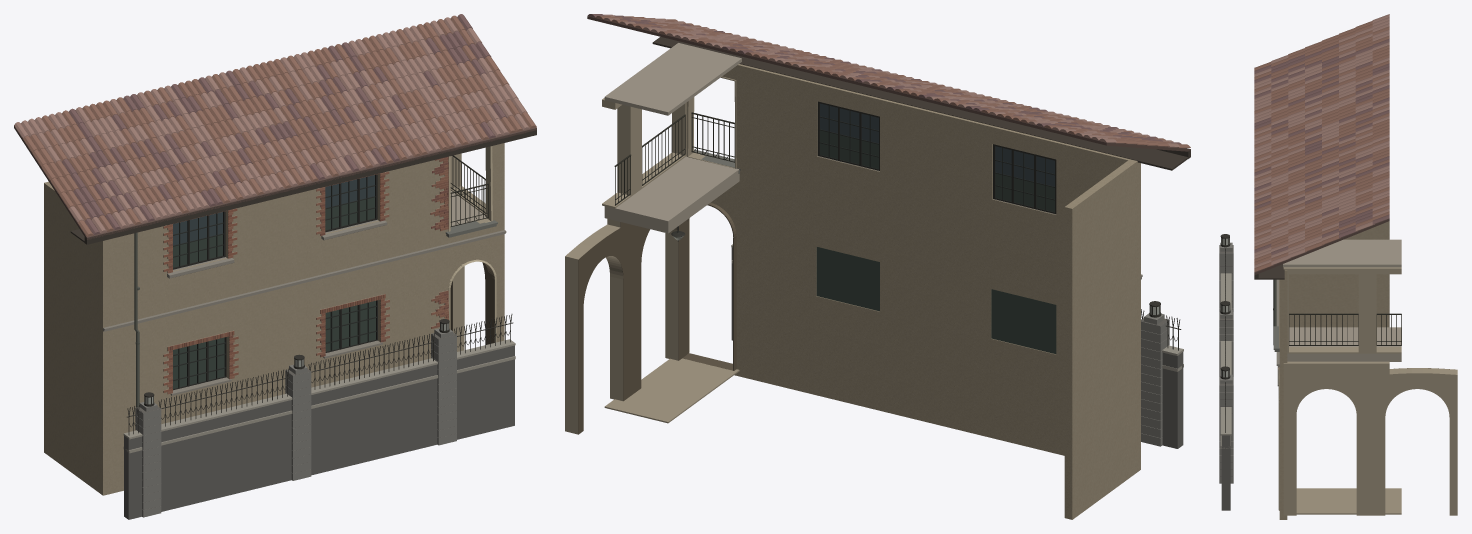
The model's file is huangpu-shaanxi-191-197-residential-front-lod.glb.
3 renders of one model, left to right at view 1: azimuth 30°, elevation 25°; view 2: azimuth 150°, elevation 25°; view 3: azimuth 270°, elevation 25°, orthographic. The views are drawn at different scales.
Visible parts, largest first — view 1: 陕西南路195号住宅与南端叠廊; view 2: 陕西南路195号住宅与南端叠廊; view 3: 陕西南路195号住宅与南端叠廊.
Part boxes in pixels (bbox=[...]): 陕西南路195号住宅与南端叠廊: bbox=[14, 14, 536, 519]; 陕西南路195号住宅与南端叠廊: bbox=[565, 14, 1190, 519]; 陕西南路195号住宅与南端叠廊: bbox=[1219, 14, 1457, 519].
Size of the model in its own units: 12.39 by 8.86 by 6.13.
Materials: 34 (1 with a texture image).
